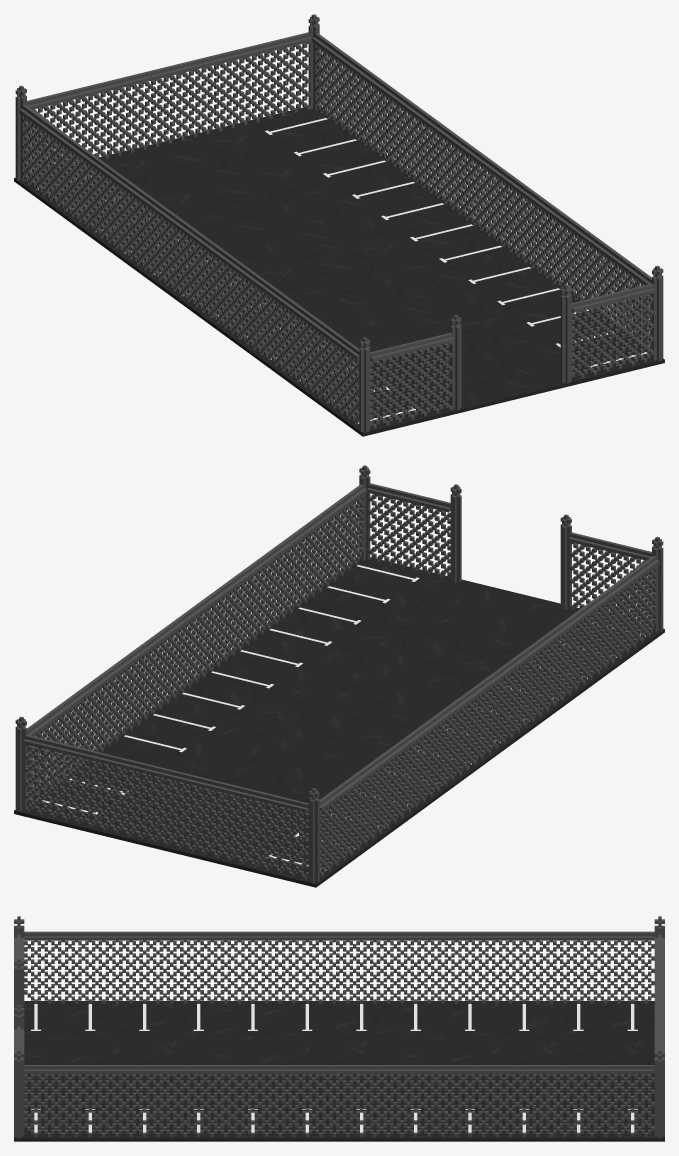
Rendered from parking_lot.gltf.
3 renders of one model, top to bottom at view 1: azimuth 30°, elevation 25°; view 2: azimuth 150°, elevation 25°; view 3: azimuth 270°, elevation 25°, orthographic. The views are drawn at different scales.
Visible parts, largest first — view 1: Layer.2; view 2: Layer.2; view 3: Layer.2.
Boxes of the visible parts, <box> form: Layer.2: <box>14,14,664,436</box>; Layer.2: <box>14,465,664,887</box>; Layer.2: <box>14,916,664,1141</box>.
Bounding box in the file's own units: 96 × 30 × 192.
1 material, 1 textured.
